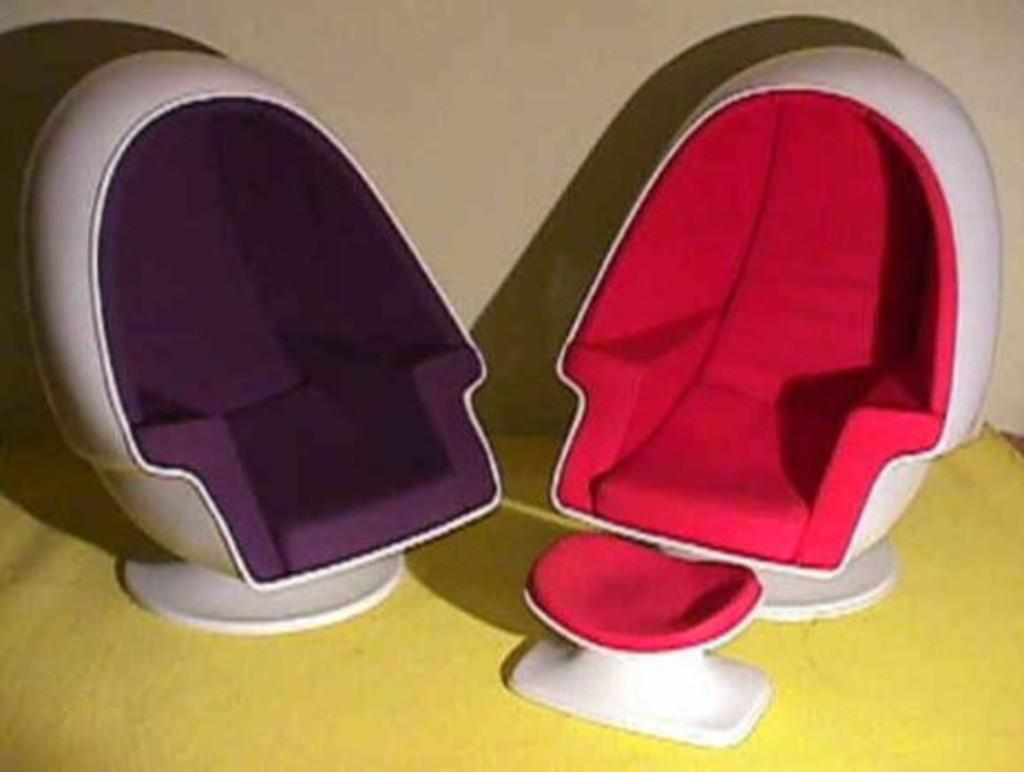Chair: (502, 42, 1002, 752), (11, 0, 502, 655)
